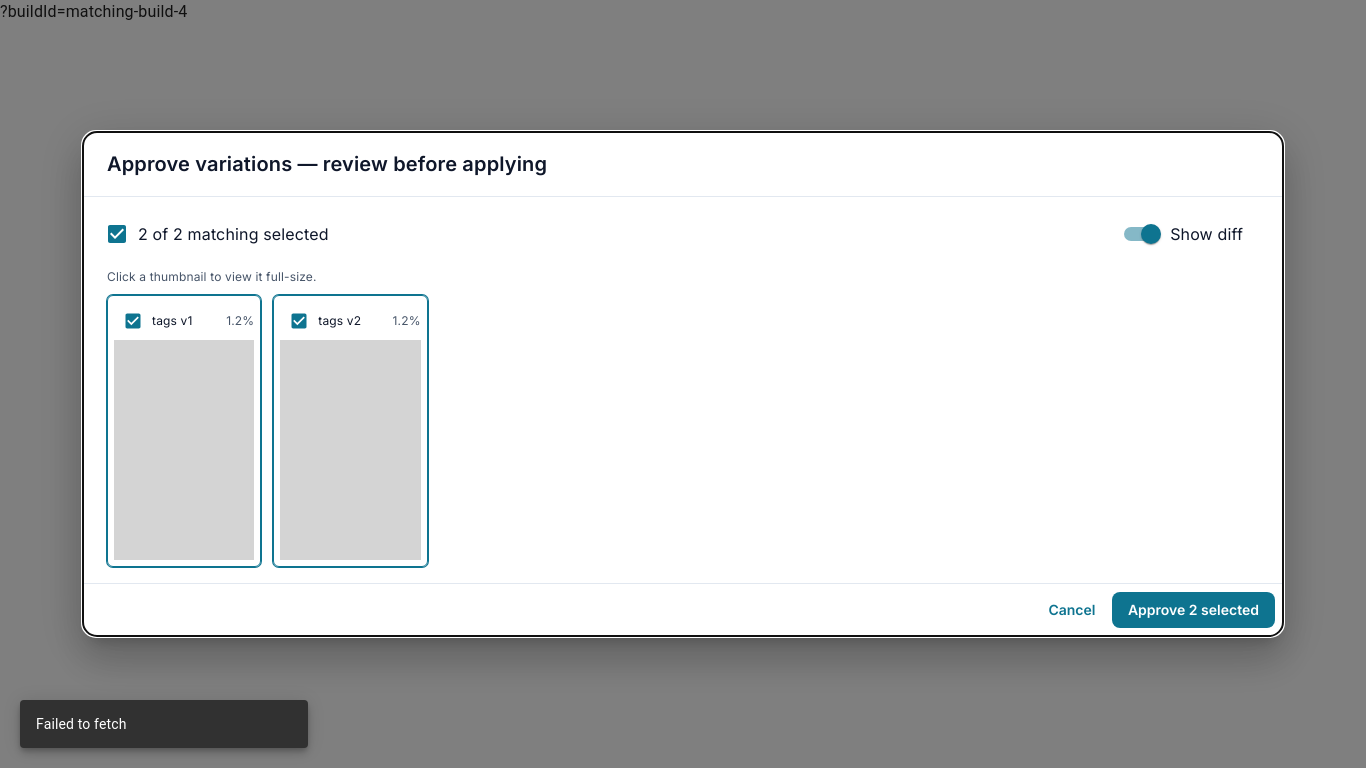
Test case: MatchingVariationsDialog › submitting › keeps the dialog open and shows an error toast when the request fails
Expected: the text "Click a thumbnail to view it full-size." is shown, left=107, top=269, right=317, bottom=284
Click the button "Approve 2 selected" at (1193, 610), box left=1112, top=592, right=1275, bottom=628
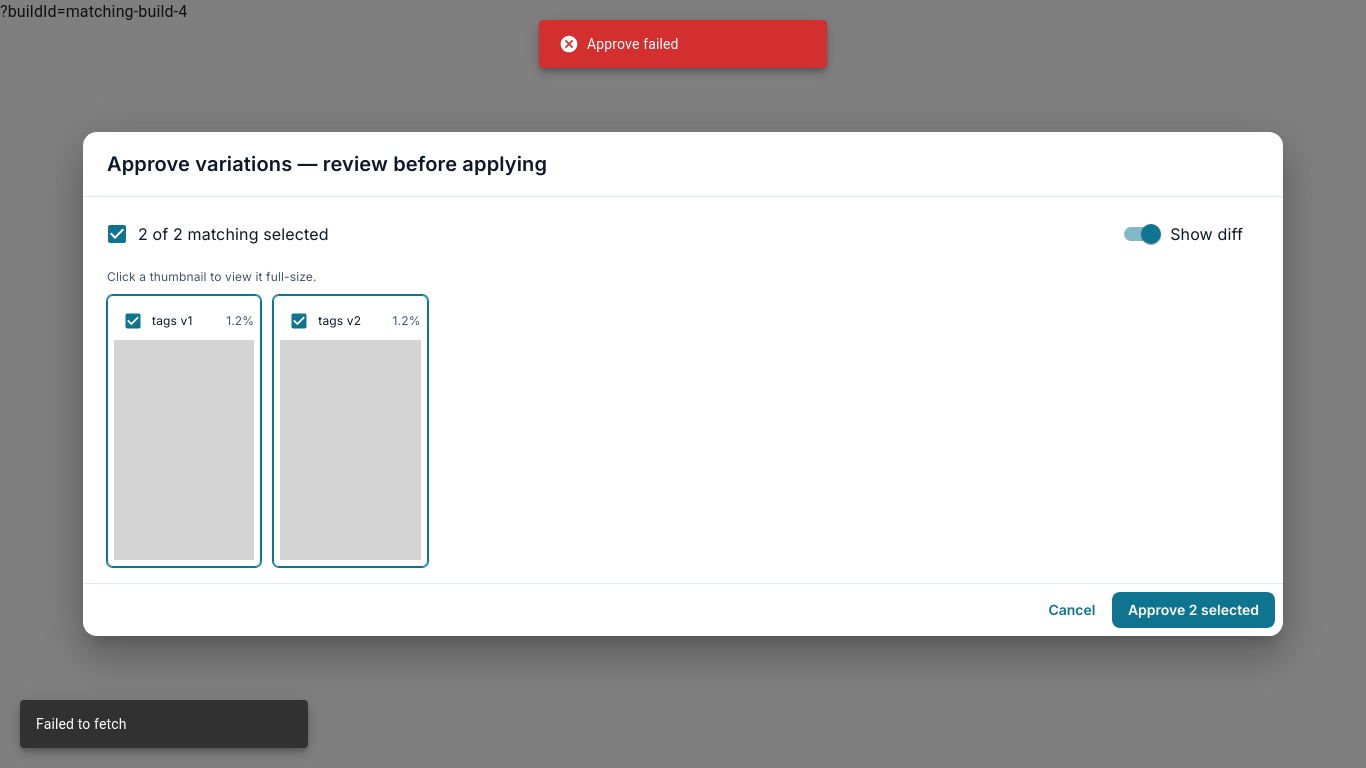
Expected: the text "Approve failed" is shown, left=559, top=34, right=679, bottom=54
